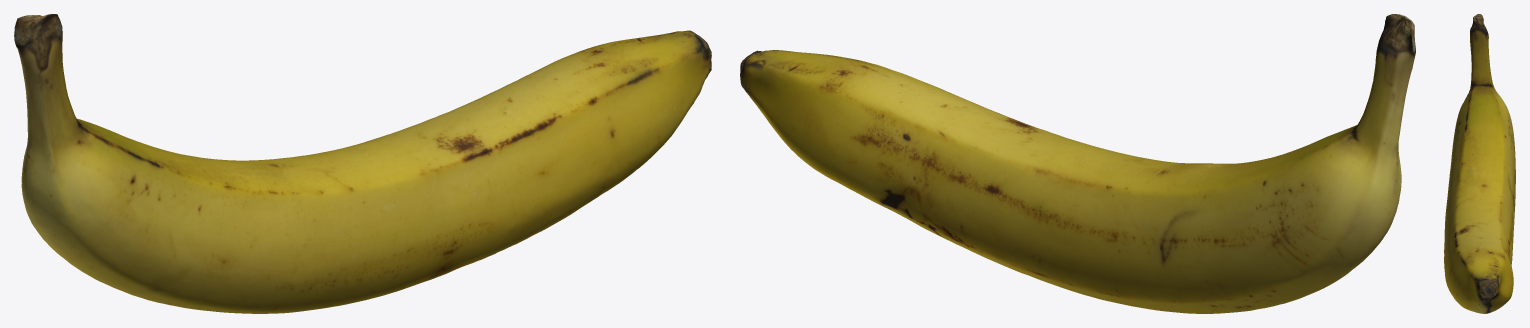
The model's file is banana.glb.
The picture shows the model from 3 angles, left to right: view 1: azimuth 30°, elevation 25°; view 2: azimuth 150°, elevation 25°; view 3: azimuth 270°, elevation 25°; orthographic projection. The views are drawn at different scales.
Visible parts, largest first — view 1: banana.obj; view 2: banana.obj; view 3: banana.obj.
Boxes of the visible parts, x1,y1,x2,y2 form: banana.obj: (14,14,711,313); banana.obj: (740,14,1415,313); banana.obj: (1444,14,1515,313).
Size of the model in its own units: 6.22 by 3.09 by 1.1.
Materials: 1 (1 with a texture image).
